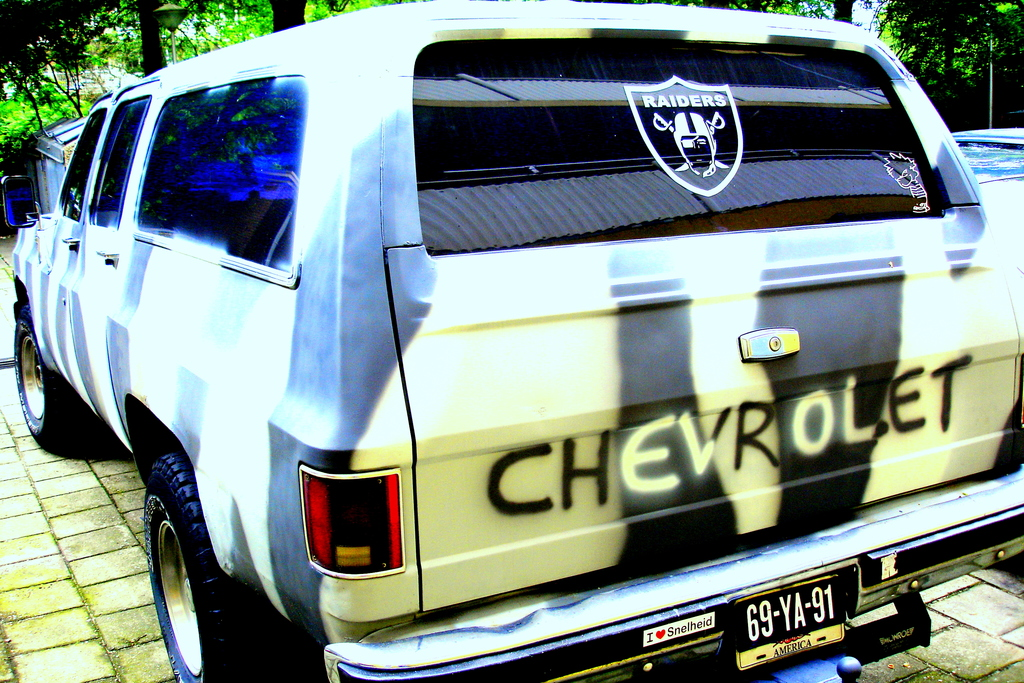Car: (0, 0, 1023, 682), (949, 128, 1023, 297)
